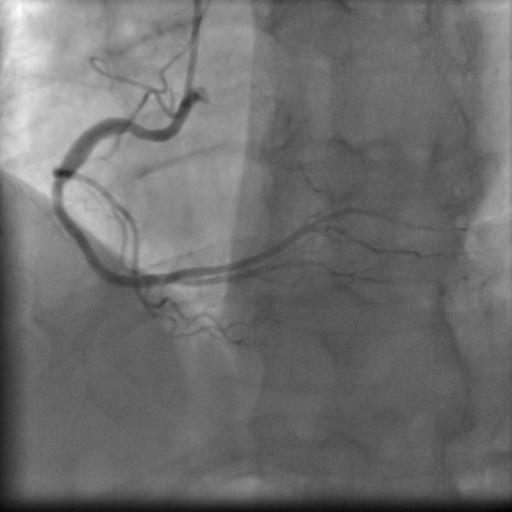Stenosis: (50, 181, 66, 211)
